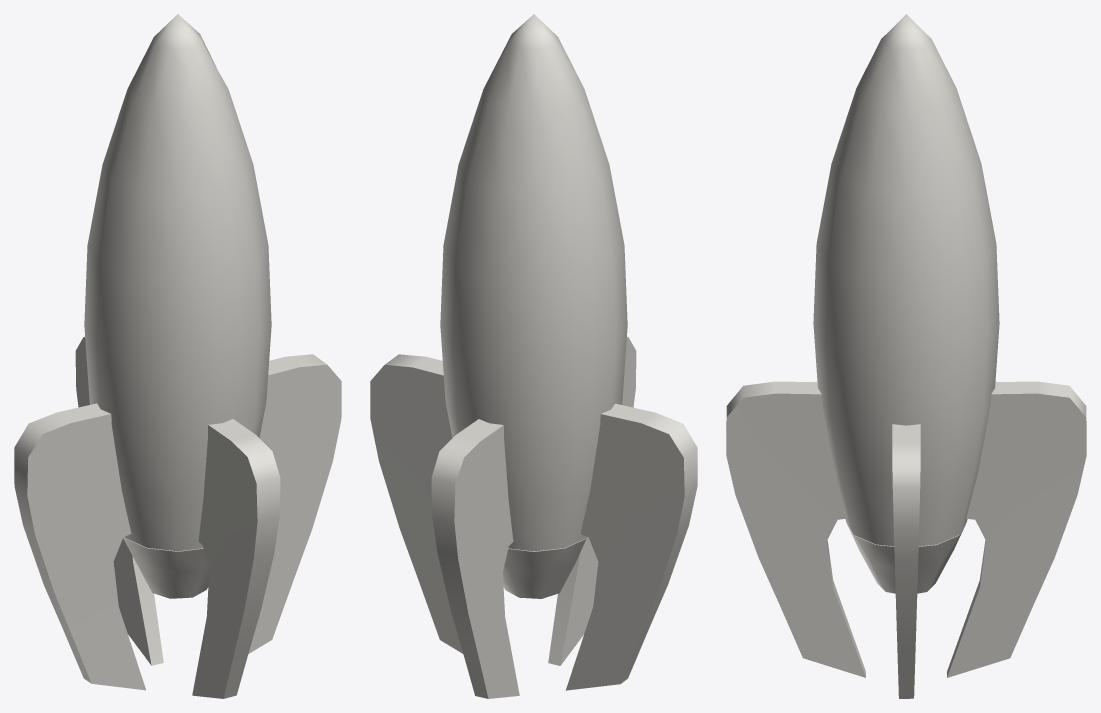
The model's file is rocky.gltf.
3 views of the same model, side by side, from view 1: azimuth 30°, elevation 25°; view 2: azimuth 150°, elevation 25°; view 3: azimuth 270°, elevation 25° (orthographic).
Visible parts, largest first — view 1: Standard.12, Standard.14, Standard.13; view 2: Standard.12, Standard.14, Standard.13; view 3: Standard.12, Standard.14, Standard.13.
Boxes of the visible parts, x1,y1,x2,y2 form: Standard.12: (84,14,271,551); Standard.14: (14,336,341,698); Standard.13: (123,536,208,598); Standard.12: (440,14,627,551); Standard.14: (370,337,697,698); Standard.13: (503,537,587,598); Standard.12: (813,14,999,546); Standard.14: (726,381,1086,698); Standard.13: (847,524,965,593).
Bounding box in the file's own units: 0.0459 × 0.0929 × 0.0459.
3 materials, 3 textured.
